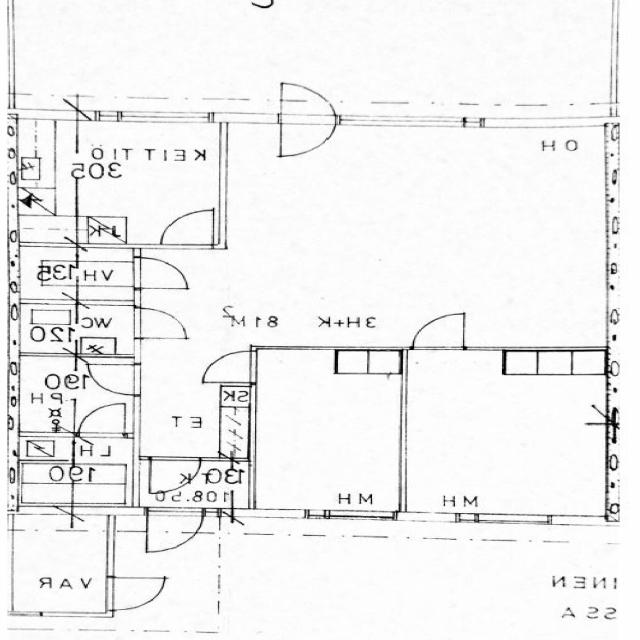door: (149, 506, 205, 550), (282, 110, 334, 154), (282, 76, 334, 120), (414, 313, 464, 351), (150, 456, 200, 494), (107, 578, 163, 609), (200, 351, 256, 382), (133, 307, 187, 338), (86, 364, 141, 394), (133, 258, 187, 288), (80, 402, 125, 438)
